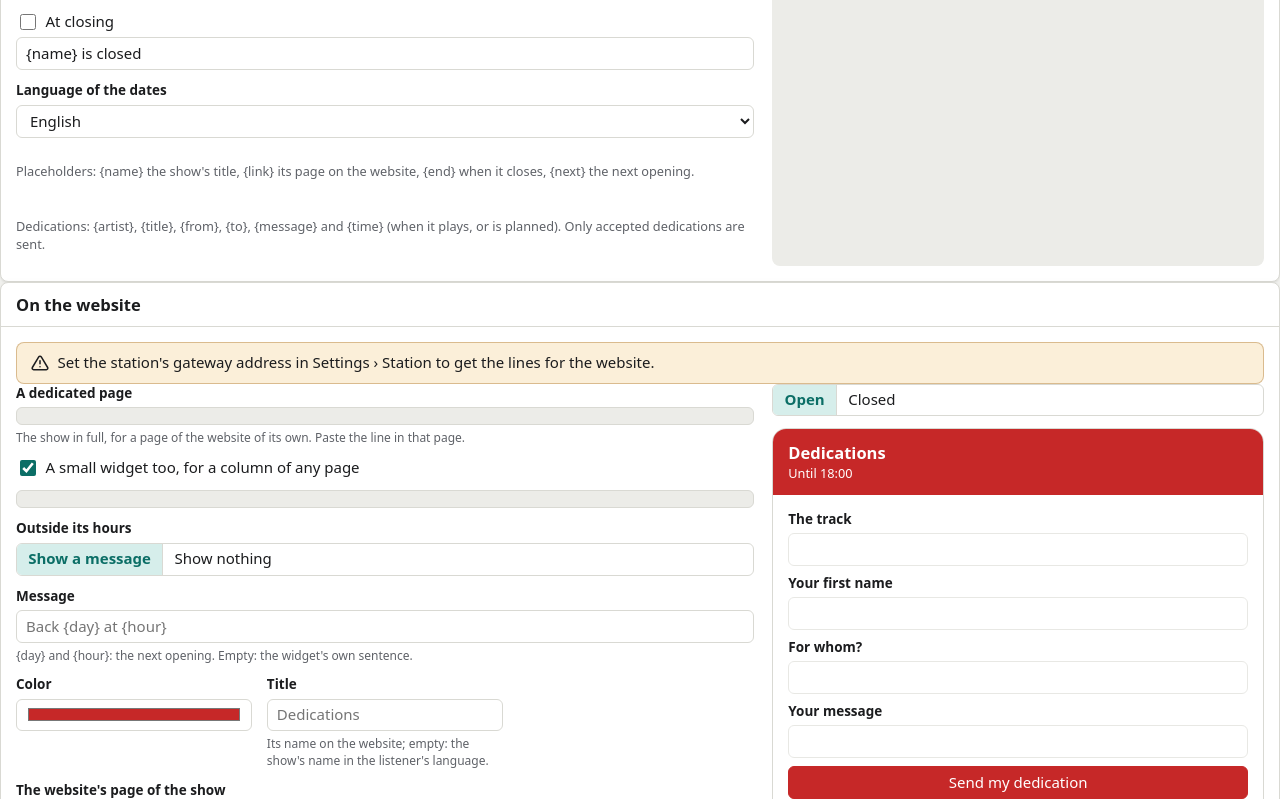
Test case: a show's page › previews the widget closed, with its message, or nothing
(page scrolled)
Click the button "Closed" at (871, 400), box [836, 384, 907, 415]
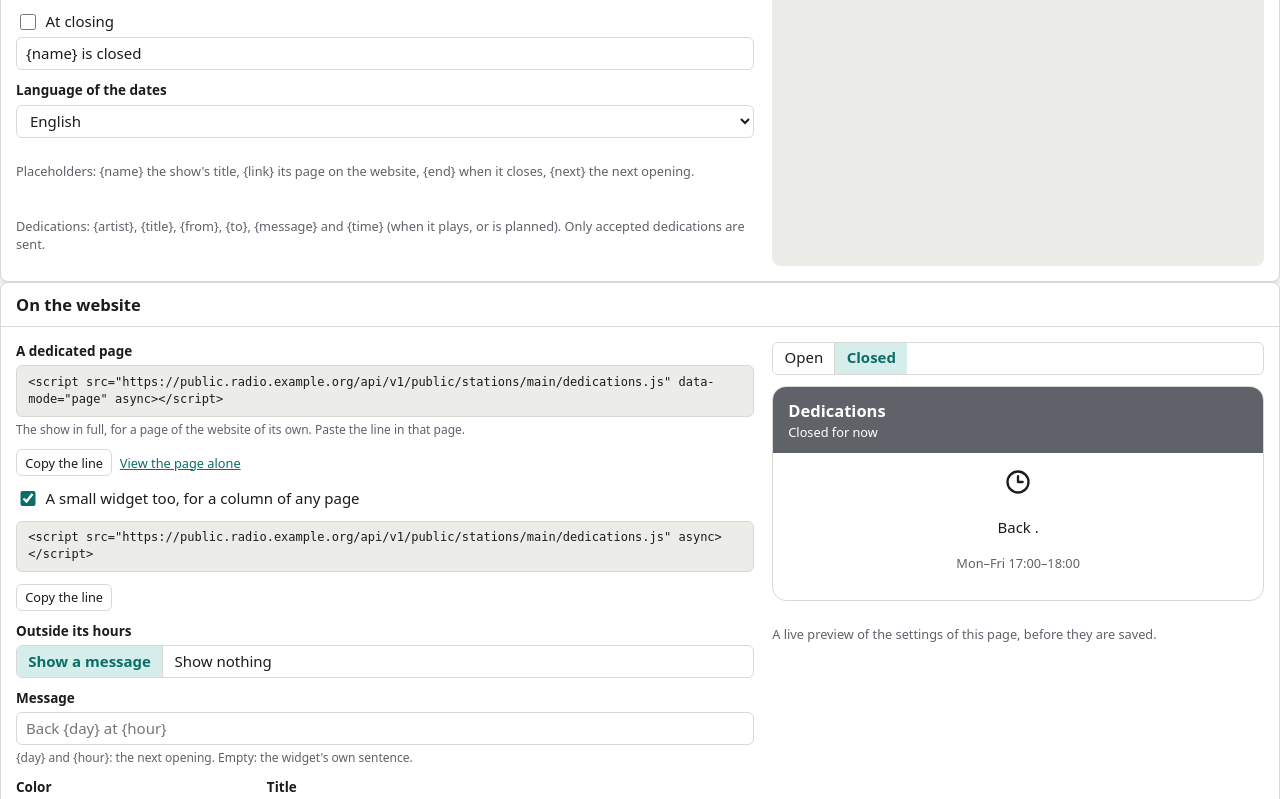
Check: the text "Closed for now" is shown, box [788, 423, 878, 441]
Click the button "Show nothing" at (223, 662), box [162, 646, 283, 677]
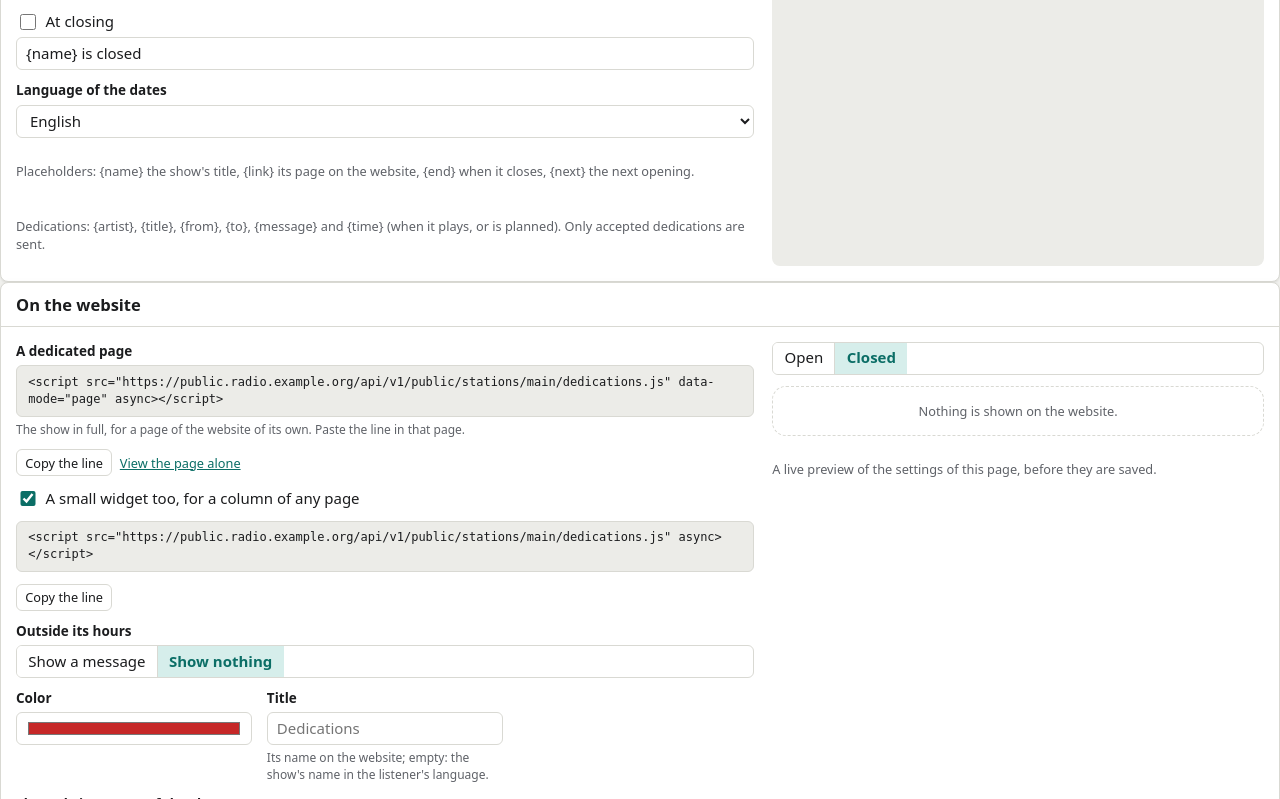
Check: the text "Nothing is shown on the website." is shown, box [772, 386, 1264, 436]
